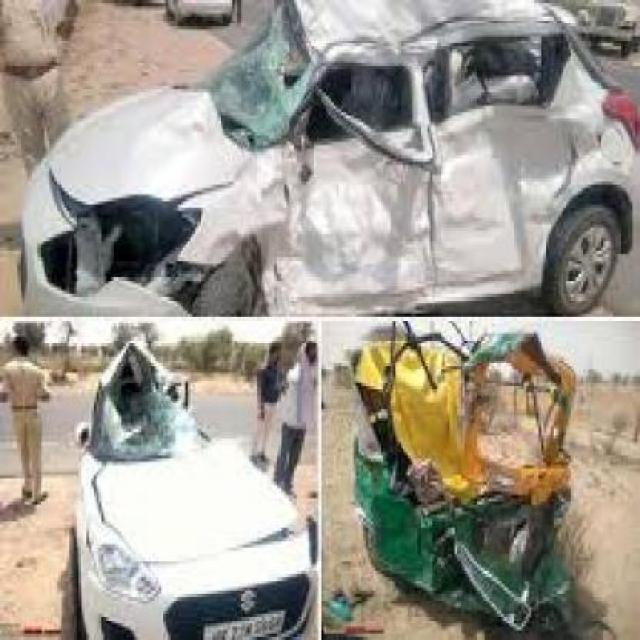accident: (29, 3, 634, 312), (24, 326, 324, 640), (352, 325, 613, 638)
